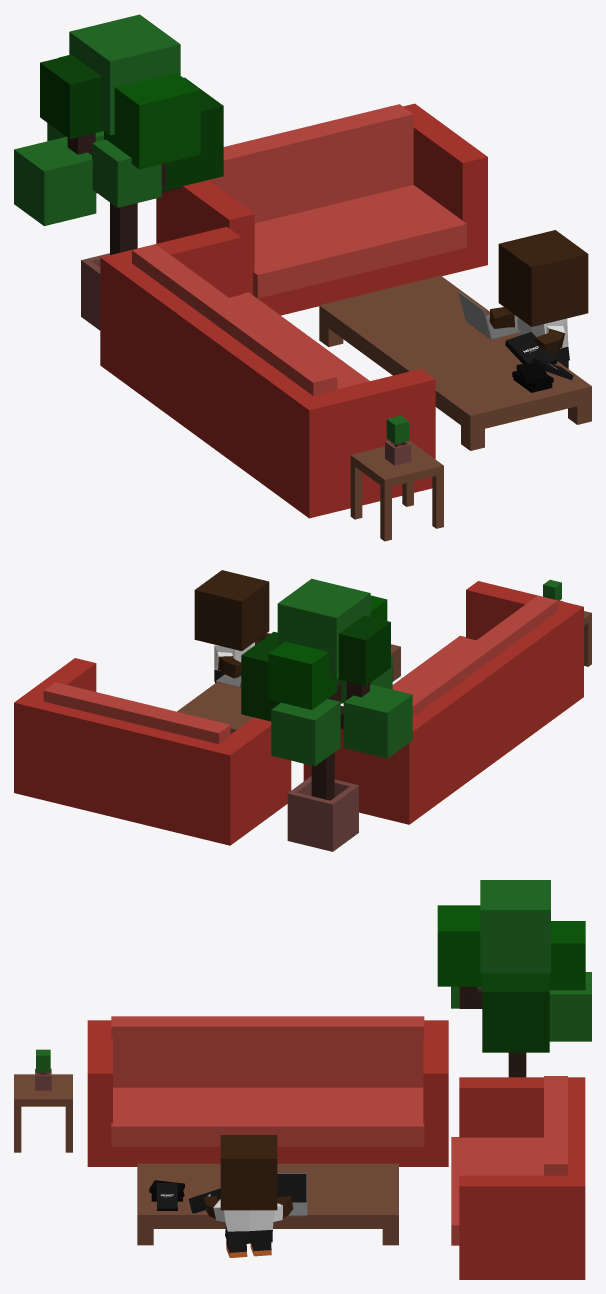
Rendered from Presynct Area.gltf.
3 views of the same model, one above another, from view 1: azimuth 30°, elevation 25°; view 2: azimuth 150°, elevation 25°; view 3: azimuth 270°, elevation 25° (orthographic). The views are drawn at different scales.
Parts seen in each view (by area): view 1: Couch Frame, Tree, Table, Couch Frame.001, Character, Head Pillow 2.001, Seat Pillow 2.001, Seat Pillow 3.001, Head Pillow 1.001, Small Table, Head Pillow 1, Head Pillow 2 (+6 smaller); view 2: Couch Frame.001, Couch Frame, Tree, Character, Big Pot, Table, Head Pillow 1.001, Head Pillow 2.001, Head Pillow 2, Head Pillow 1, Head Pillow 3, Seat Pillow 3 (+1 smaller); view 3: Tree, Couch Frame.001, Couch Frame, Table, Head Pillow 3, Head Pillow 2, Head Pillow 1, Character, Seat Pillow 1, Seat Pillow 3, Seat Pillow 2, Seat Pillow 3.001 (+6 smaller).
Part boxes in pixels (x1=…): Couch Frame: x1=100, y1=226, x2=435, y2=518; Tree: x1=14, y1=14, x2=223, y2=254; Table: x1=319, y1=275, x2=591, y2=450; Couch Frame.001: x1=156, y1=103, x2=487, y2=315; Character: x1=489, y1=230, x2=588, y2=368; Head Pillow 2.001: x1=295, y1=104, x2=413, y2=210; Seat Pillow 2.001: x1=309, y1=185, x2=466, y2=272; Seat Pillow 3.001: x1=253, y1=210, x2=362, y2=298; Head Pillow 1.001: x1=209, y1=129, x2=308, y2=223; Small Table: x1=350, y1=440, x2=443, y2=541; Head Pillow 1: x1=252, y1=333, x2=337, y2=395; Head Pillow 2: x1=192, y1=288, x2=276, y2=351; Couch Frame.001: x1=14, y1=658, x2=291, y2=845; Couch Frame: x1=303, y1=581, x2=583, y2=824; Tree: x1=241, y1=578, x2=412, y2=800; Character: x1=194, y1=570, x2=270, y2=683; Big Pot: x1=287, y1=776, x2=358, y2=851; Table: x1=177, y1=644, x2=400, y2=733; Head Pillow 1.001: x1=131, y1=703, x2=230, y2=744; Head Pillow 2.001: x1=43, y1=682, x2=142, y2=722; Head Pillow 2: x1=437, y1=632, x2=507, y2=684; Head Pillow 1: x1=487, y1=595, x2=557, y2=647; Head Pillow 3: x1=405, y1=669, x2=456, y2=717; Seat Pillow 3: x1=410, y1=635, x2=475, y2=676; Tree: x1=437, y1=880, x2=591, y2=1077; Couch Frame.001: x1=459, y1=1077, x2=585, y2=1279; Couch Frame: x1=87, y1=1020, x2=448, y2=1166; Table: x1=137, y1=1163, x2=398, y2=1245; Head Pillow 3: x1=319, y1=1016, x2=424, y2=1087; Head Pillow 2: x1=215, y1=1016, x2=320, y2=1087; Head Pillow 1: x1=111, y1=1016, x2=215, y2=1087; Character: x1=204, y1=1135, x2=293, y2=1257; Seat Pillow 1: x1=319, y1=1087, x2=424, y2=1146; Seat Pillow 3: x1=111, y1=1087, x2=215, y2=1146; Seat Pillow 2: x1=215, y1=1087, x2=320, y2=1146; Seat Pillow 3.001: x1=451, y1=1137, x2=543, y2=1180.
Size of the model in its own units: 8.21 by 5.26 by 11.21.
19 materials, 1 textured.
